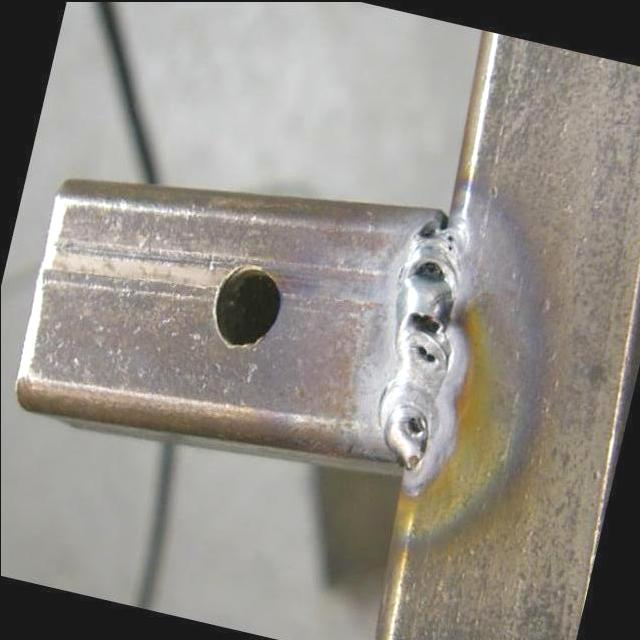defect: (405, 305, 445, 334), (411, 254, 447, 286), (411, 341, 438, 366), (405, 413, 426, 436), (418, 221, 438, 242), (444, 230, 455, 253)
